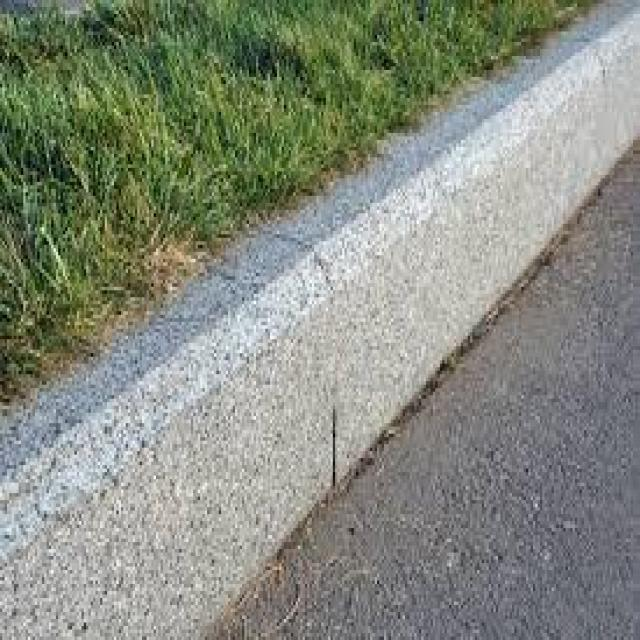curb: (238, 160, 465, 521), (1, 373, 289, 640), (448, 1, 634, 299)
